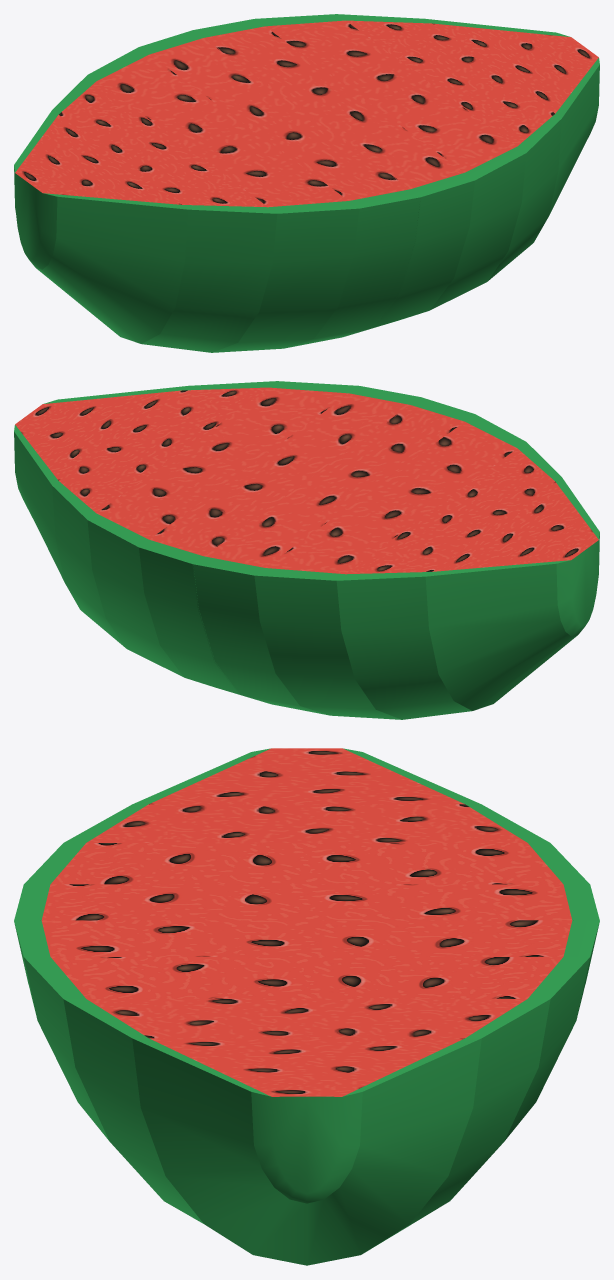
File: WaterMelon.fbx
3 views of the same model, one above another, from view 1: azimuth 30°, elevation 25°; view 2: azimuth 150°, elevation 25°; view 3: azimuth 270°, elevation 25° (orthographic). The views are drawn at different scales.
Visible parts, largest first — view 1: polySurface14, polySurface17, polySurface16, polySurface15, polySurface24, polySurface26, polySurface25, polySurface23; view 2: polySurface14, polySurface17, polySurface16, polySurface15, polySurface24, polySurface26, polySurface25, polySurface23; view 3: polySurface23, polySurface25, polySurface26, polySurface17, polySurface24, polySurface15, polySurface16, polySurface14.
Part boxes in pixels (<box>): polySurface14: <box>14,110,188,343</box>; polySurface17: <box>88,47,359,352</box>; polySurface16: <box>52,75,277,352</box>; polySurface15: <box>139,30,421,348</box>; polySurface24: <box>192,19,474,332</box>; polySurface26: <box>255,14,526,310</box>; polySurface25: <box>337,14,561,280</box>; polySurface23: <box>426,19,599,215</box>; polySurface14: <box>425,477,599,710</box>; polySurface17: <box>254,414,525,719</box>; polySurface16: <box>336,442,561,719</box>; polySurface15: <box>192,397,474,715</box>; polySurface24: <box>139,386,421,699</box>; polySurface26: <box>87,381,358,677</box>; polySurface25: <box>52,381,276,647</box>; polySurface23: <box>14,386,187,582</box>; polySurface23: <box>132,1038,481,1265</box>; polySurface25: <box>63,998,550,1252</box>; polySurface26: <box>24,956,589,1141</box>; polySurface17: <box>24,843,589,884</box>; polySurface24: <box>14,920,599,1017</box>; polySurface15: <box>14,884,599,981</box>; polySurface16: <box>64,804,549,843</box>; polySurface14: <box>133,748,480,804</box>.
Bounding box in the file's own units: 63.31 × 22.76 × 44.99.
2 materials, 1 textured.
